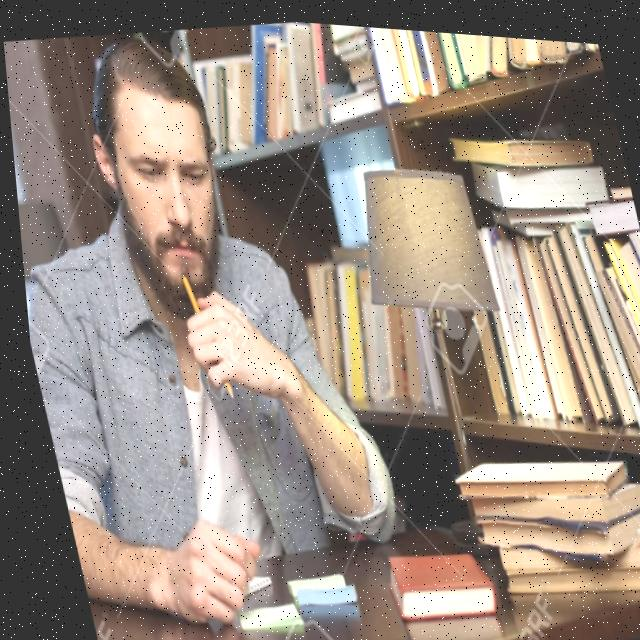studying-person: (0, 0, 498, 640)
